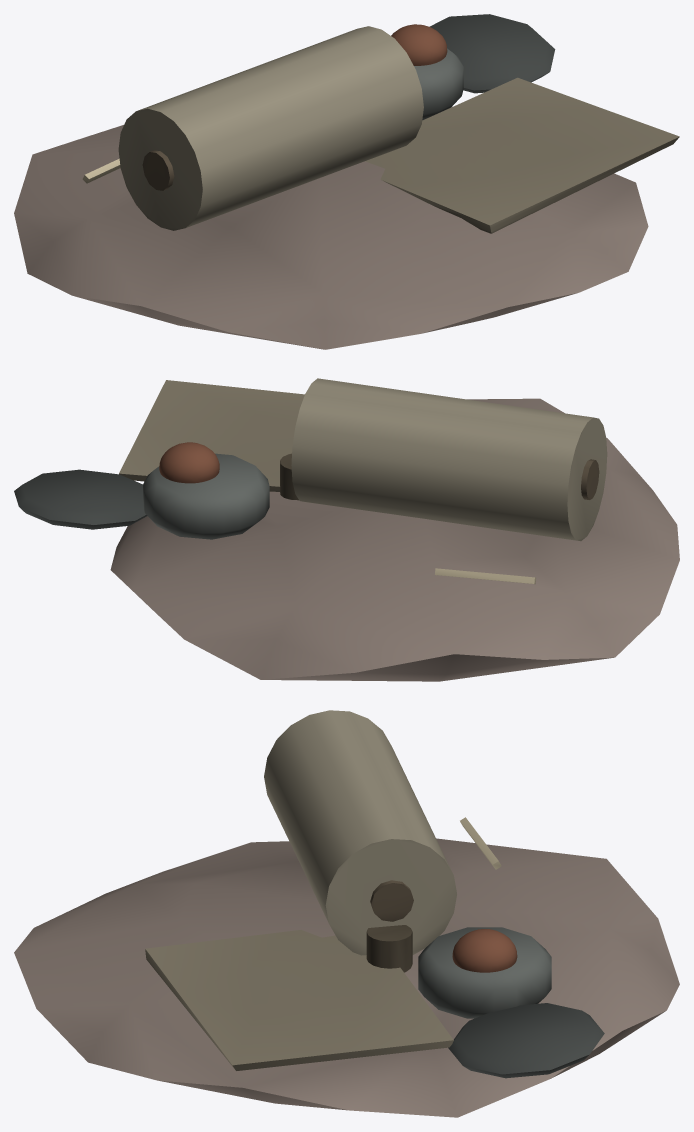
Rendered from patch_bolt_a_lod1.glb.
3 views of the same model, one above another, from view 1: azimuth 30°, elevation 25°; view 2: azimuth 150°, elevation 25°; view 3: azimuth 270°, elevation 25° (orthographic). The views are drawn at different scales.
Visible parts, largest first — view 1: Surface.001; view 2: Surface.001; view 3: Surface.001.
Part boxes in pixels (left/top/right/bottom): Surface.001: left=14, top=14, right=679, bottom=349; Surface.001: left=14, top=378, right=679, bottom=681; Surface.001: left=14, top=710, right=679, bottom=1117.
Bounding box in the file's own units: 1.64 × 0.6368 × 1.61.
